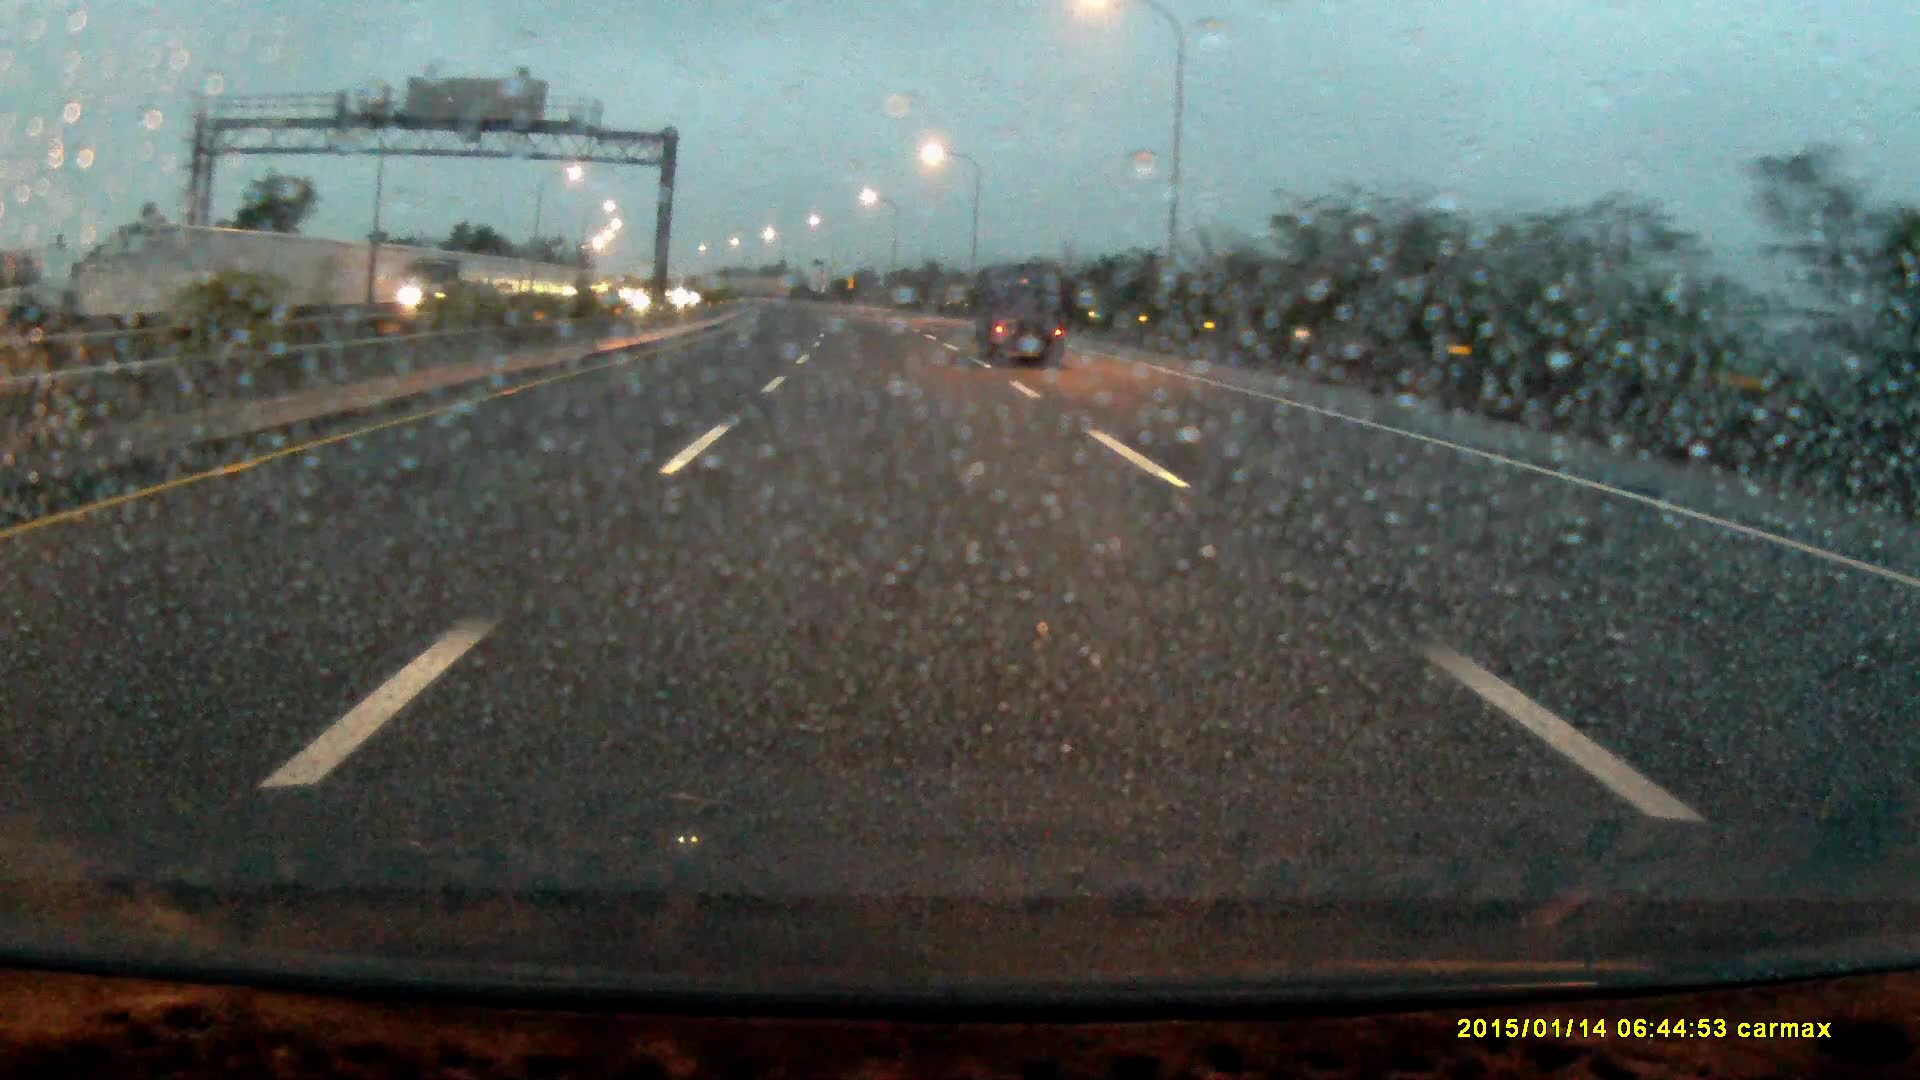vehicle: (977, 269, 1064, 365), (400, 255, 509, 318)
